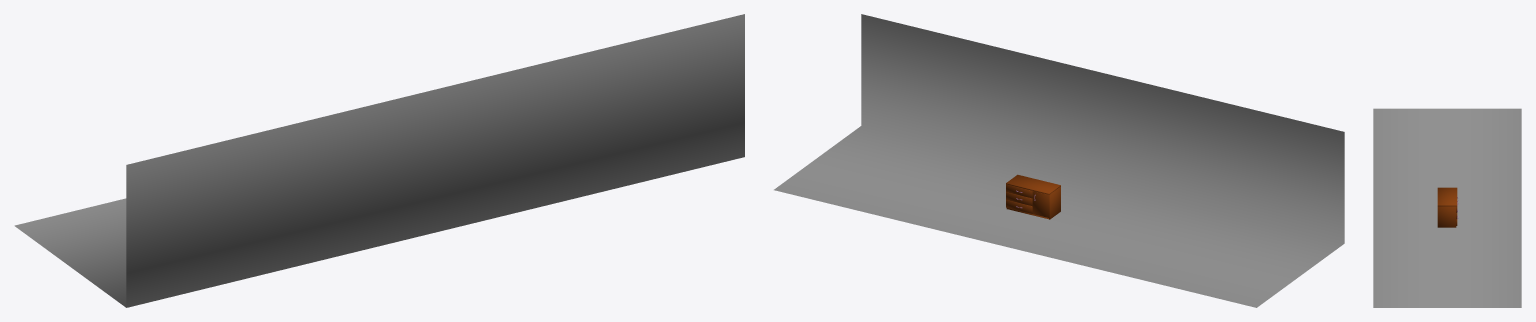
Rendered from СhestOfDrawers.obj.
3 views of the same model, side by side, from view 1: azimuth 30°, elevation 25°; view 2: azimuth 150°, elevation 25°; view 3: azimuth 270°, elevation 25° (orthographic). The views are drawn at different scales.
Parts seen in each view (by area): view 1: Plane001; view 2: Plane001, Box002; view 3: Plane001, Box002.
Part boxes in pixels (box(x1,y1,x2,y2)): Plane001: box(14, 14, 744, 307); Plane001: box(774, 14, 1344, 307); Box002: box(1006, 174, 1060, 219); Plane001: box(1373, 108, 1521, 307); Box002: box(1437, 187, 1457, 227).
Size of the model in its own units: 729 by 161 by 230.
